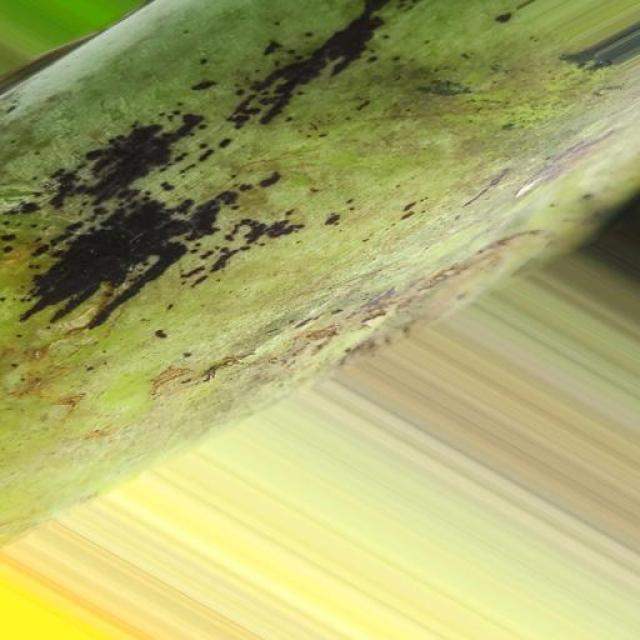Anthracnose: (2, 0, 640, 559)
